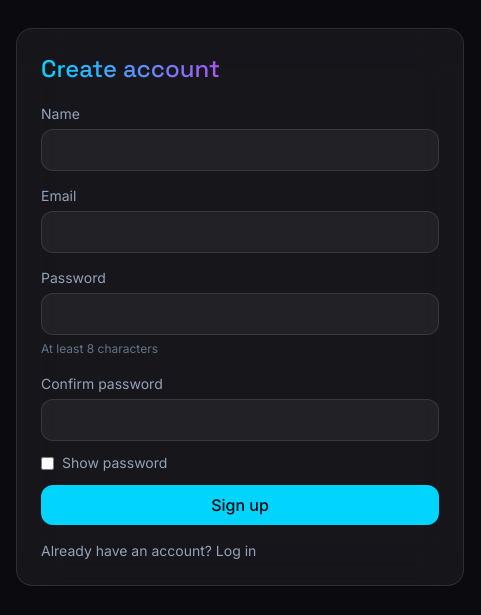
Scenario: Register page › blocks submit and warns when the passwords don't match
This screenshot has width=481, height=615.
Expected: the text "Create account" is shown, [41,53,220,84]
Type "Ada Lovelace" into the field labelled "Name" at (240, 150), box [41,129,439,171]
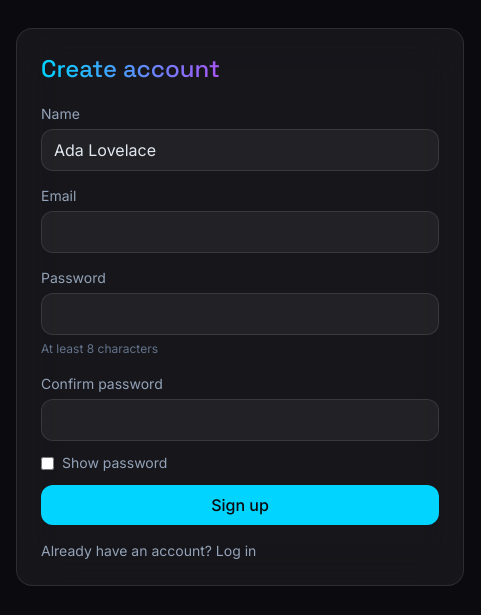
Type "ada@x.io" into the field labelled "Email" at (240, 232), box [41,211,439,253]
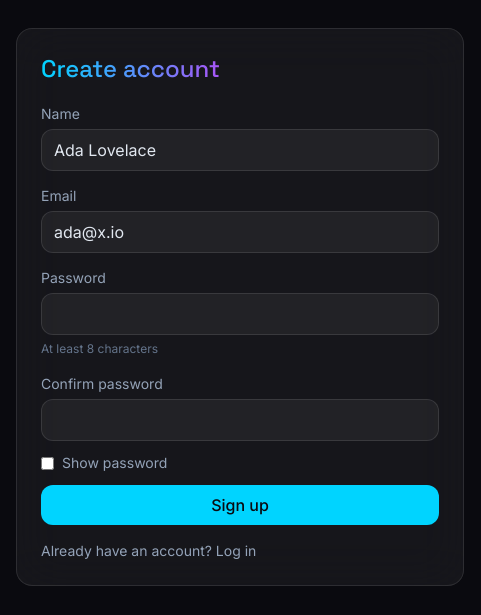
Type "mySecret123" into the password field labelled "Password" at (240, 314), box [41,293,439,335]
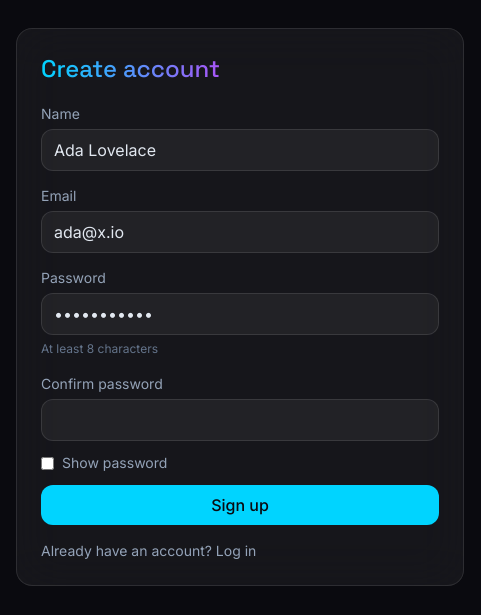
Type "different123" into the password field labelled "Confirm password" at (240, 420), box [41,399,439,441]
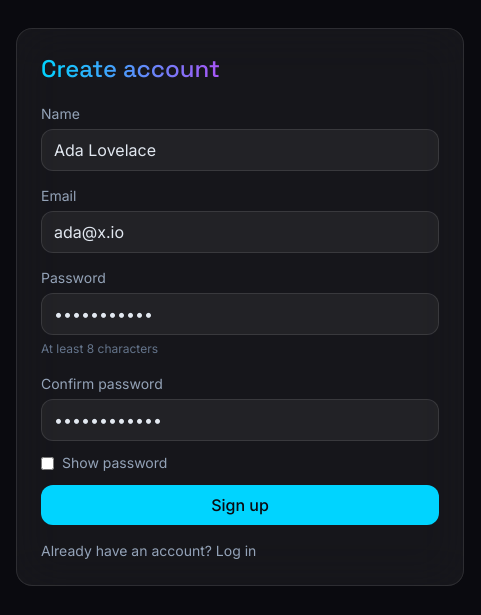
Click the button "Sign up" at (240, 505), box [41,485,439,525]
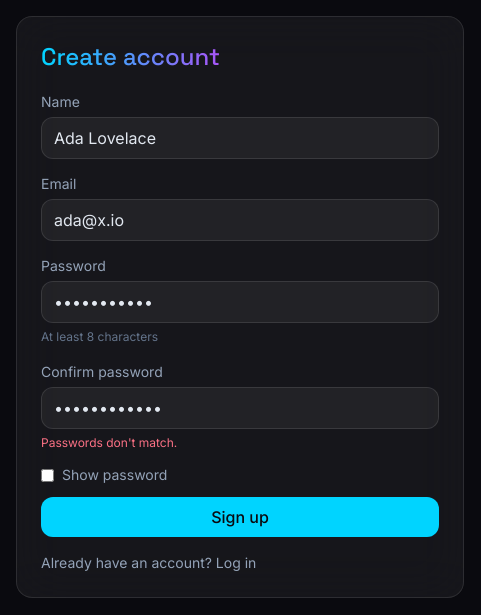
Expected: the message shows "don't match", [41,435,177,450]
